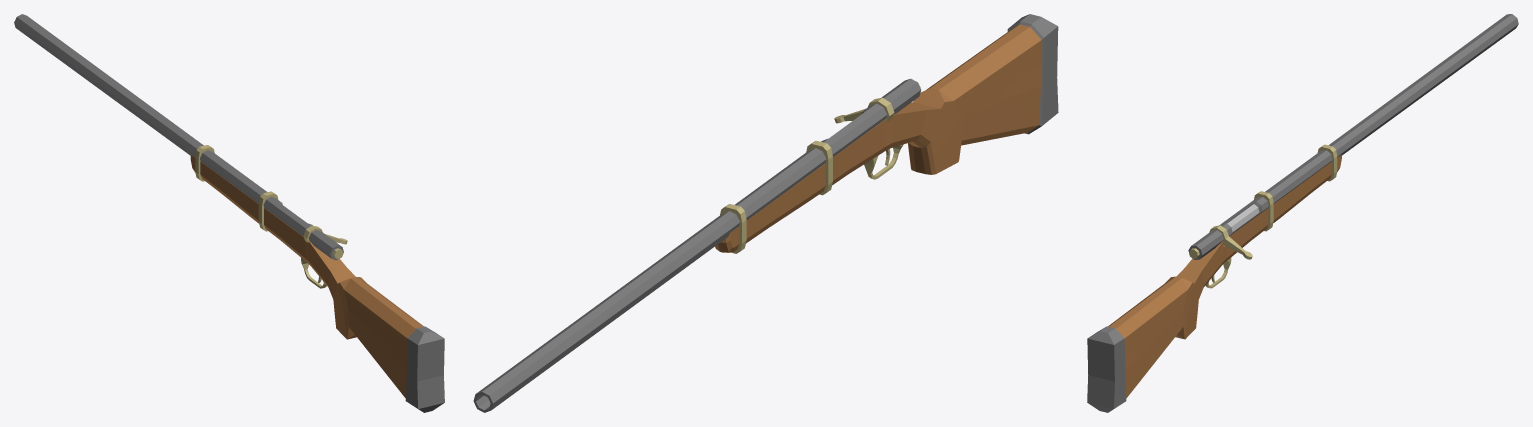
The model's file is BoltAction-Rifles-A-Long.fbx.
3 views of the same model, side by side, from view 1: azimuth 30°, elevation 25°; view 2: azimuth 150°, elevation 25°; view 3: azimuth 330°, elevation 25° (orthographic). The views are drawn at different scales.
Visible parts, largest first — view 1: SniperRifle-A; view 2: SniperRifle-A; view 3: SniperRifle-A.
Boxes of the visible parts, <box> form: SniperRifle-A: <box>14,14,444,412</box>; SniperRifle-A: <box>473,14,1058,412</box>; SniperRifle-A: <box>1087,14,1518,412</box>.
Bounding box in the file's own units: 123 × 255 × 1858.
